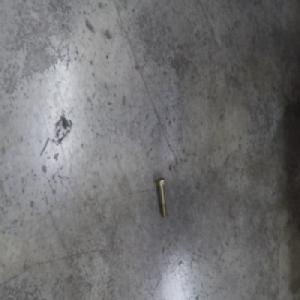Bolt: (158, 178, 172, 221)
